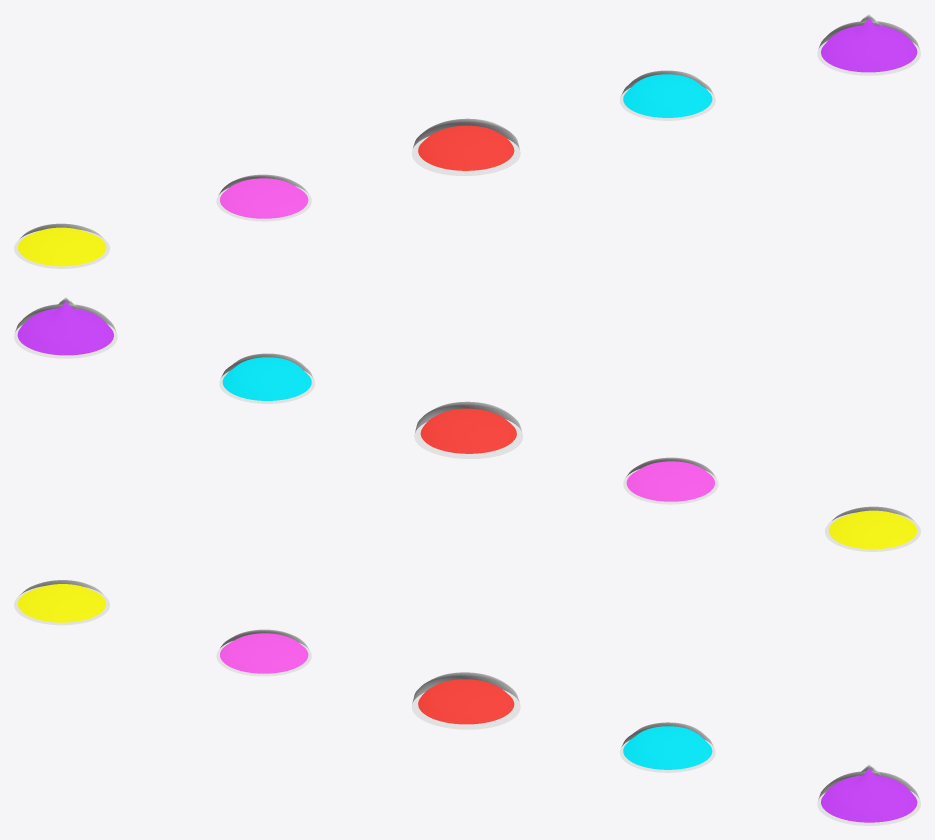
The model's file is gd_jump_pads.glb.
The picture shows the model from 3 angles, top to bottom: view 1: azimuth 30°, elevation 25°; view 2: azimuth 150°, elevation 25°; view 3: azimuth 330°, elevation 25°; orthographic projection.
Parts seen in each view (by area): view 1: Sphere.002_2, Sphere.004_4, Sphere.003_3, Sphere.001_1, Sphere_0; view 2: Sphere.002_2, Sphere.004_4, Sphere.003_3, Sphere.001_1, Sphere_0; view 3: Sphere.002_2, Sphere.004_4, Sphere.003_3, Sphere.001_1, Sphere_0.
Part boxes in pixels (<box>): Sphere.002_2: <box>411,118,520,175</box>; Sphere.004_4: <box>817,14,920,75</box>; Sphere.003_3: <box>620,70,715,120</box>; Sphere.001_1: <box>216,174,311,221</box>; Sphere_0: <box>14,223,109,268</box>; Sphere.002_2: <box>414,401,523,458</box>; Sphere.004_4: <box>14,297,117,358</box>; Sphere.003_3: <box>219,353,314,403</box>; Sphere.001_1: <box>623,457,718,504</box>; Sphere_0: <box>825,506,920,551</box>; Sphere.002_2: <box>411,672,520,729</box>; Sphere.004_4: <box>817,764,920,825</box>; Sphere.003_3: <box>619,722,715,772</box>; Sphere.001_1: <box>216,629,311,676</box>; Sphere_0: <box>14,580,109,625</box>.
Bounding box in the file's own units: 6.12 × 0.2715 × 0.6444.
